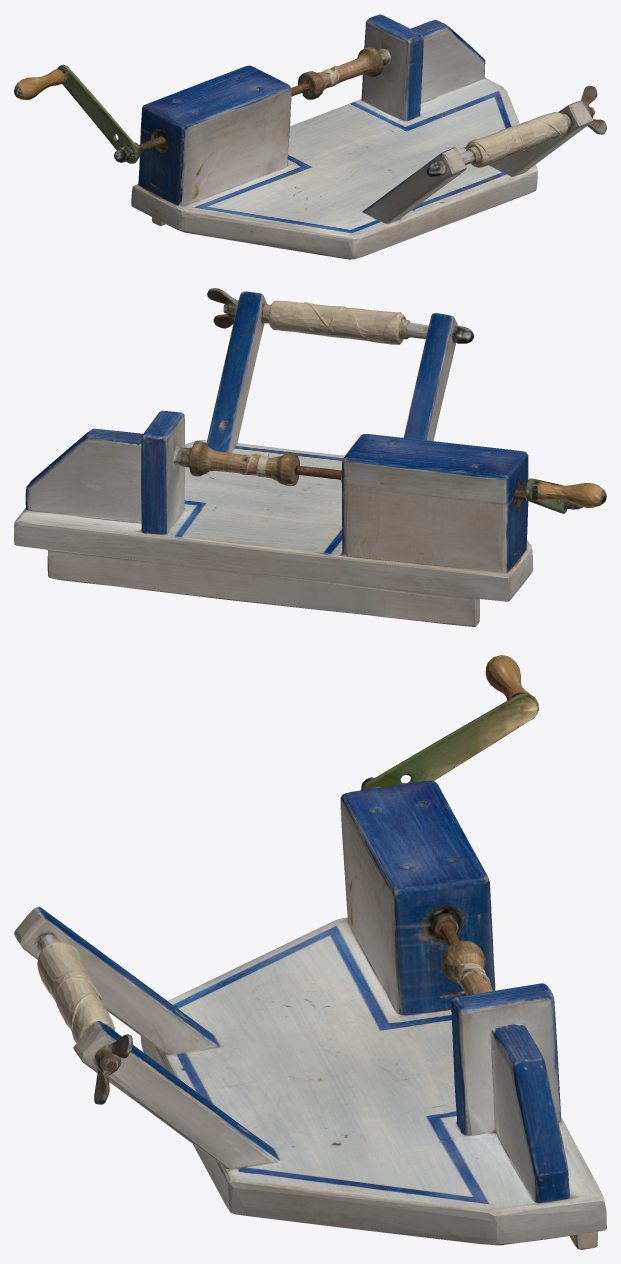
File: CDC8745F-2FFF-824F-A03E-A7994F3B8A1D_2k.glb
The picture shows the model from 3 angles, top to bottom: view 1: azimuth 30°, elevation 25°; view 2: azimuth 150°, elevation 25°; view 3: azimuth 270°, elevation 25°; orthographic projection. The views are drawn at different scales.
Visible parts, largest first — view 1: Schnurwickelmaschine_10k_2k; view 2: Schnurwickelmaschine_10k_2k; view 3: Schnurwickelmaschine_10k_2k.
Boxes of the visible parts, x1,y1,x2,y2 form: Schnurwickelmaschine_10k_2k: [14, 14, 606, 259]; Schnurwickelmaschine_10k_2k: [14, 288, 606, 626]; Schnurwickelmaschine_10k_2k: [14, 655, 606, 1249].
Bounding box in the file's own units: 0.6956 × 0.2254 × 0.4675.
Materials: 1 (1 with a texture image).
